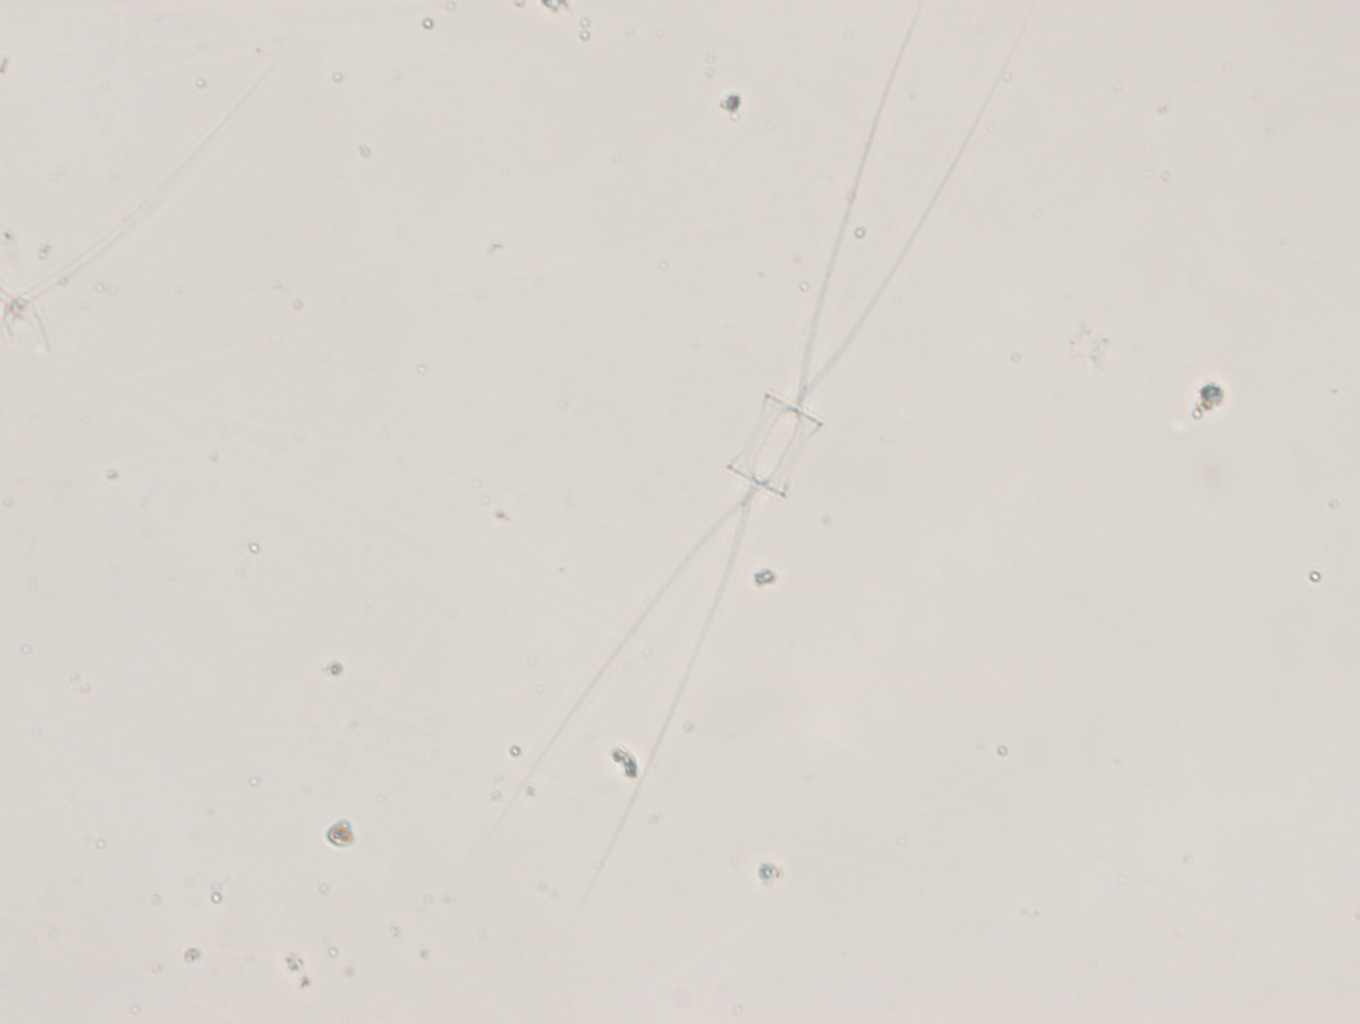chaetoceros: (517, 18, 1006, 887)
